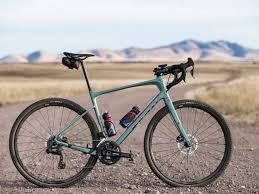bicycle: (6, 43, 243, 190)
